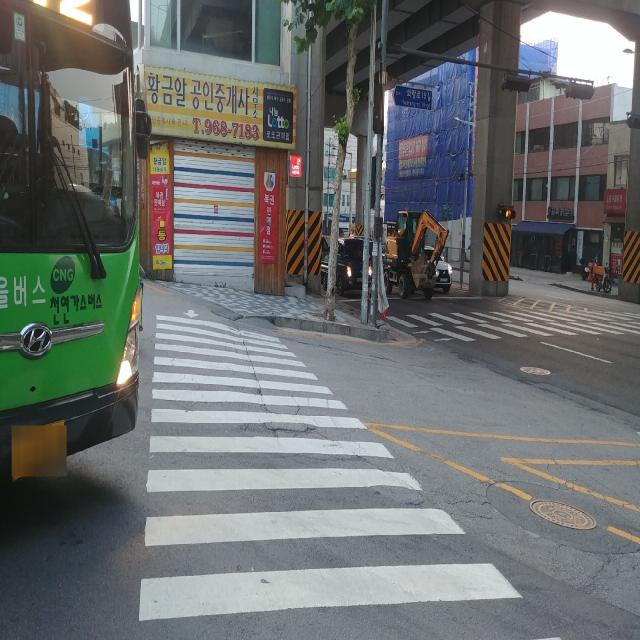횡단보도: (139, 308, 562, 640), (408, 305, 640, 337)
